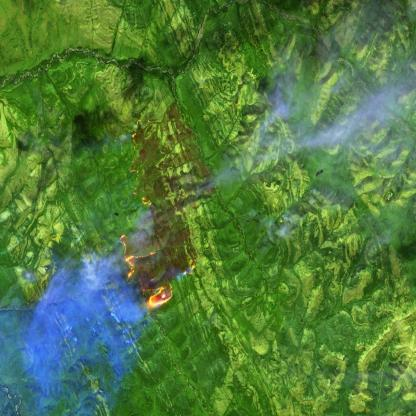fire: (114, 113, 198, 310)
